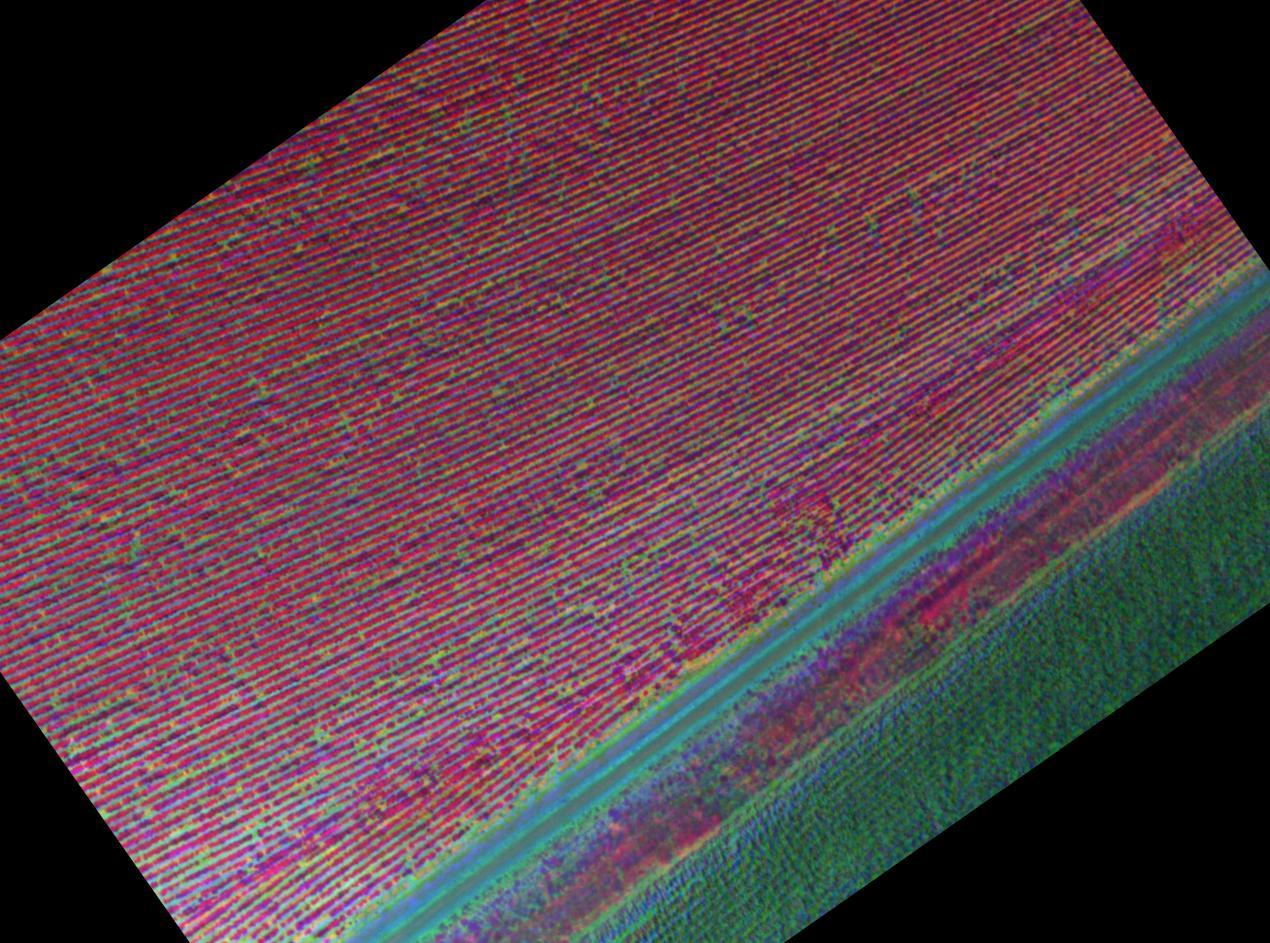dc: (494, 387, 500, 394), (950, 446, 955, 454), (134, 541, 139, 549), (130, 552, 135, 560), (589, 400, 593, 408), (316, 730, 321, 736), (256, 817, 261, 823), (201, 863, 206, 868), (224, 461, 230, 465), (228, 648, 232, 654), (1070, 209, 1074, 214), (146, 812, 150, 817), (251, 830, 256, 834), (253, 379, 257, 383), (197, 856, 202, 859)
